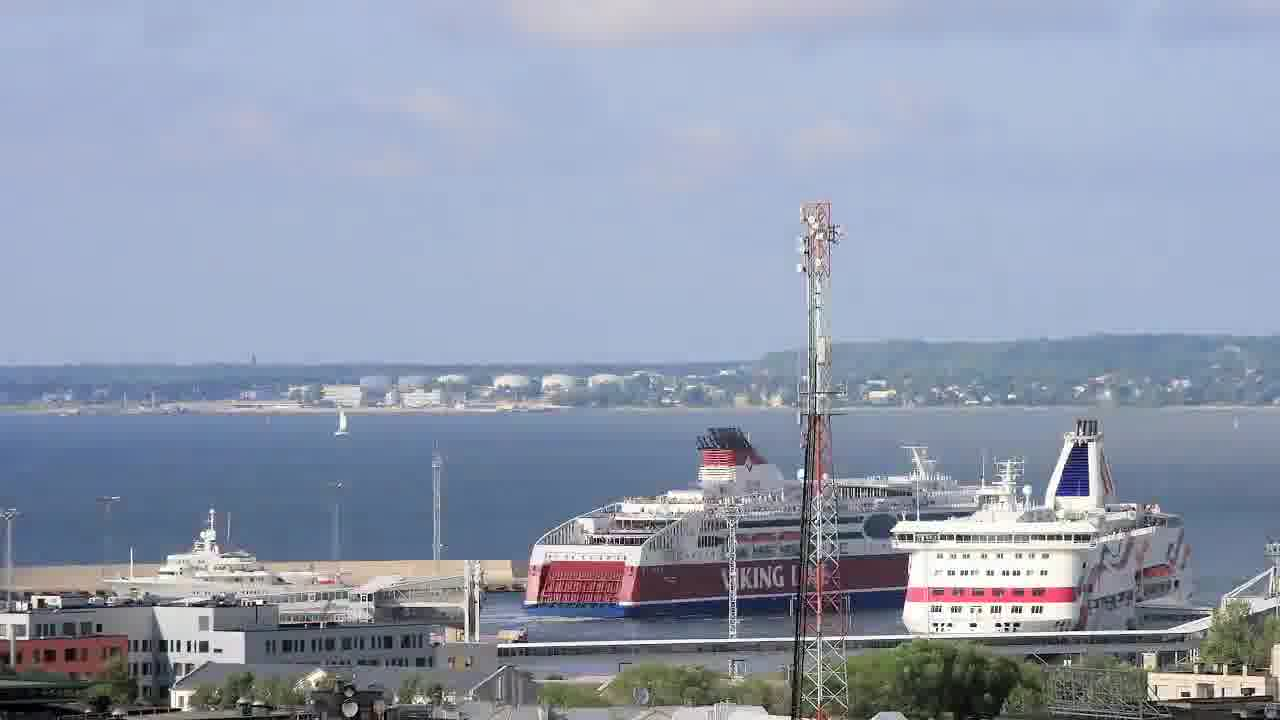type-2: (309, 392, 364, 451)
type-3: (868, 415, 1225, 638), (515, 439, 934, 625), (89, 518, 402, 620)
